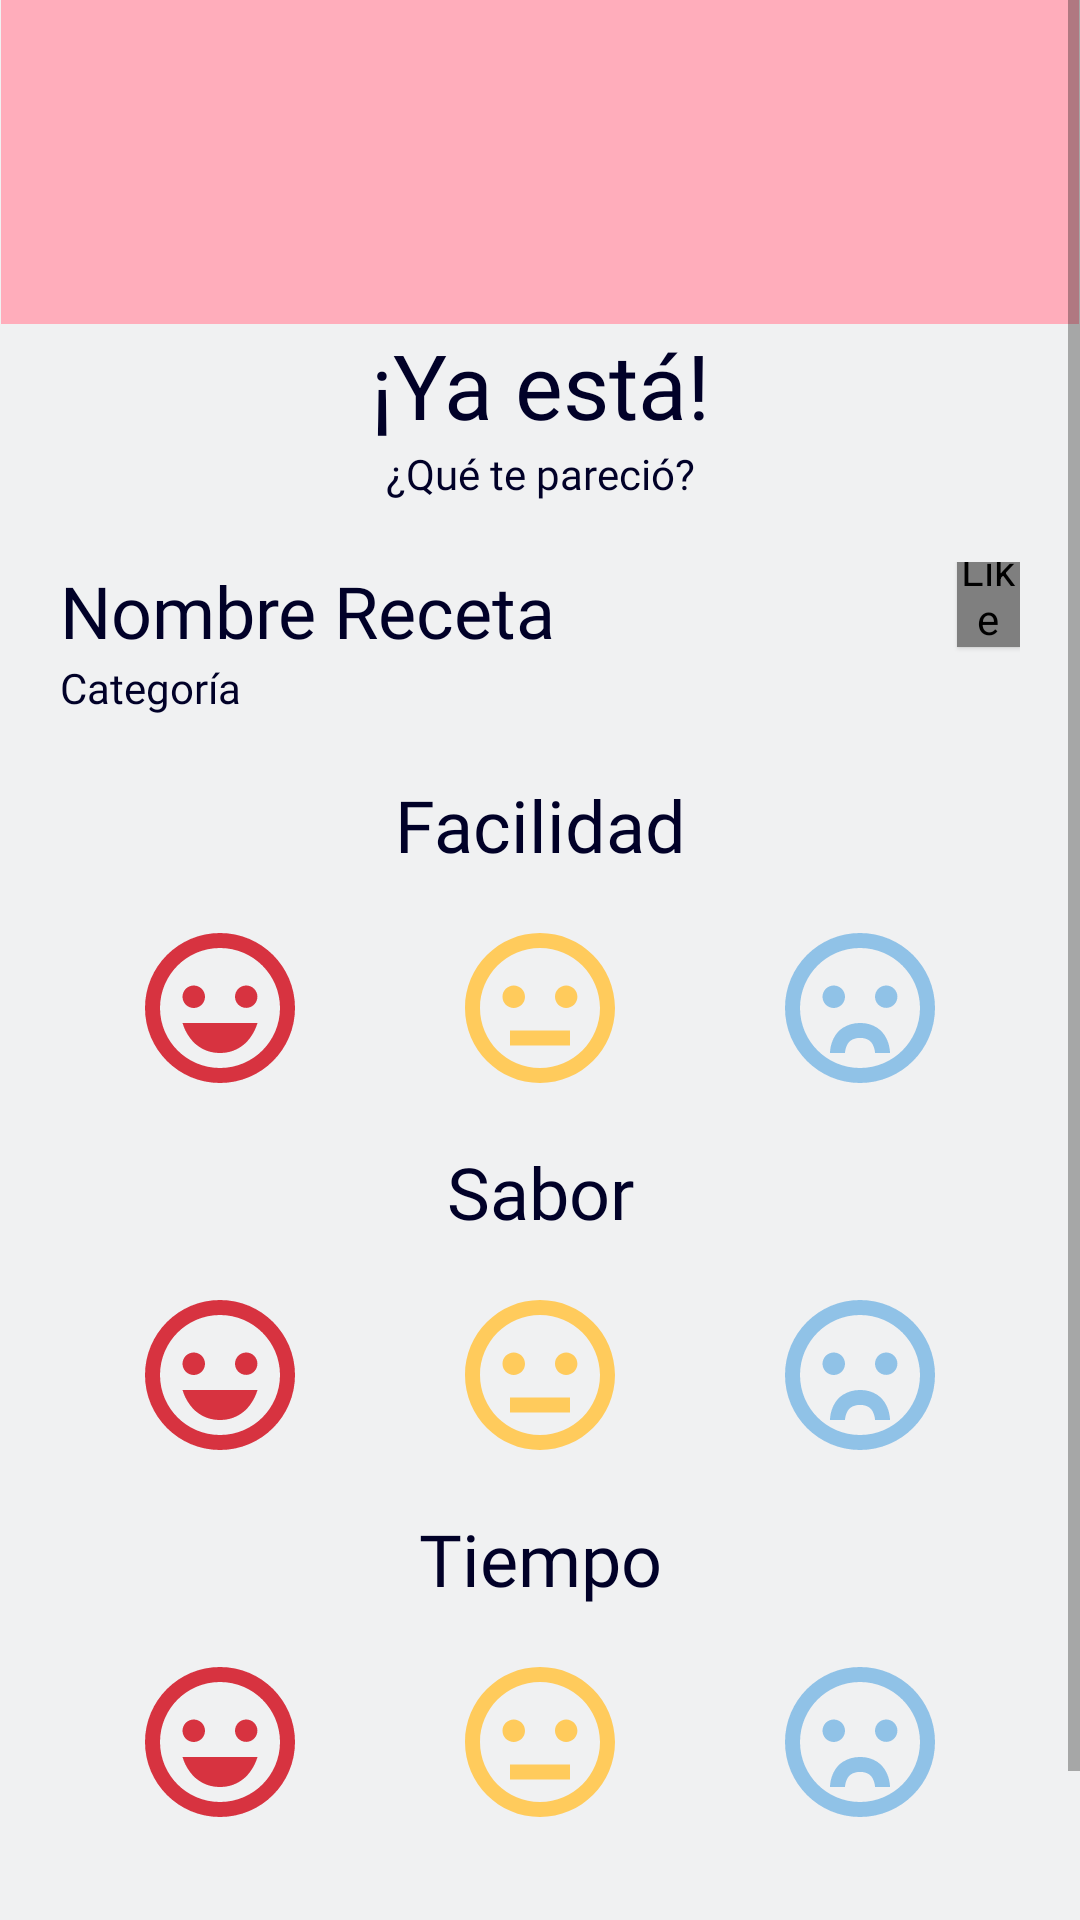

Where icons sit on this 1080 × 1920 app screen, as {"x1": x1, "y1": y1, "x2": x2, "y2": y2}:
happy: {"x1": 145, "y1": 933, "x2": 295, "y2": 1083}, {"x1": 145, "y1": 1300, "x2": 295, "y2": 1450}, {"x1": 145, "y1": 1667, "x2": 295, "y2": 1817}
neutral: {"x1": 465, "y1": 933, "x2": 615, "y2": 1083}, {"x1": 465, "y1": 1300, "x2": 615, "y2": 1450}, {"x1": 465, "y1": 1667, "x2": 615, "y2": 1817}
sad: {"x1": 785, "y1": 933, "x2": 935, "y2": 1083}, {"x1": 785, "y1": 1300, "x2": 935, "y2": 1450}, {"x1": 785, "y1": 1667, "x2": 935, "y2": 1817}
